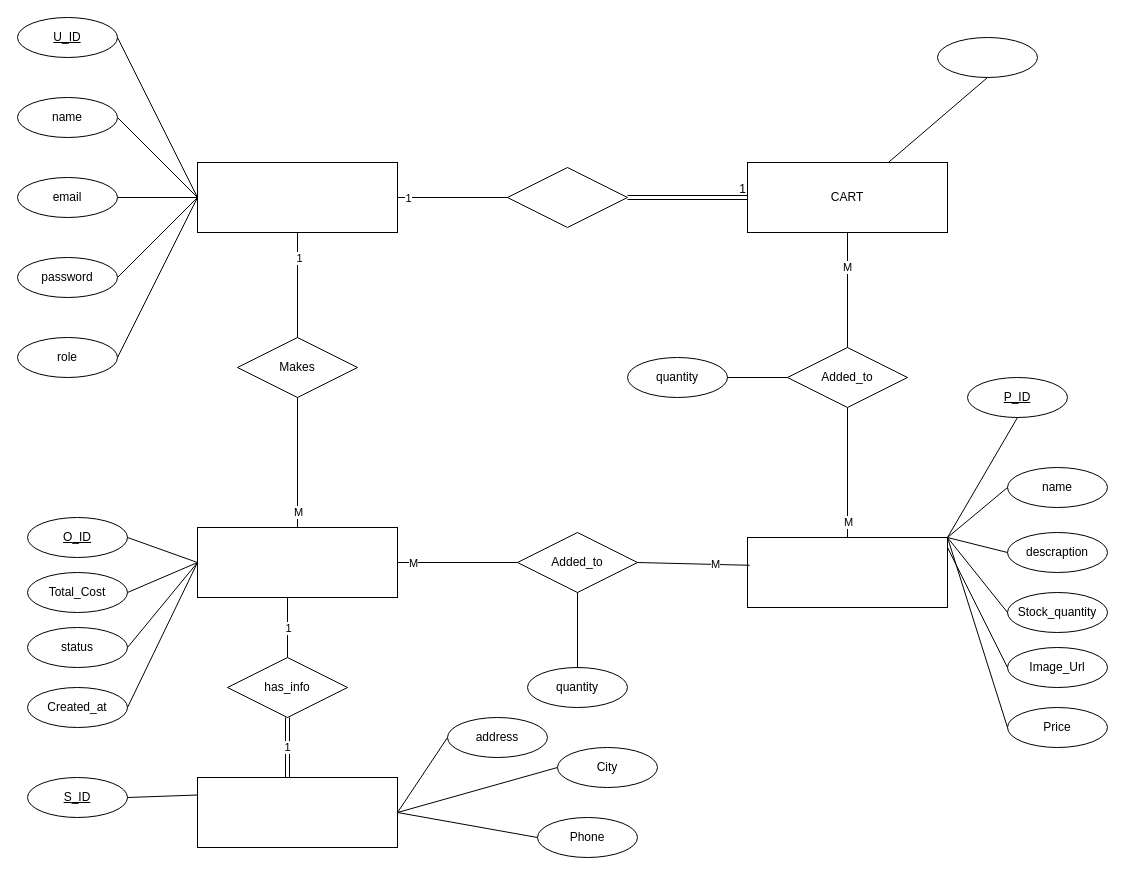
The diagram is 1125 pixels wide and 875 high, and some of its shapes have lost their labels. The shapes that lost their labels are listed below. From the top down, each one's centre as x and y in pixels, then its label:
At (987,57): "C_ID".
At (297,197): "USER".
At (567,197): "Has".
At (297,562): "ORDER".
At (847,572): "PRODUCT".
At (297,812): "SHIPPING".
